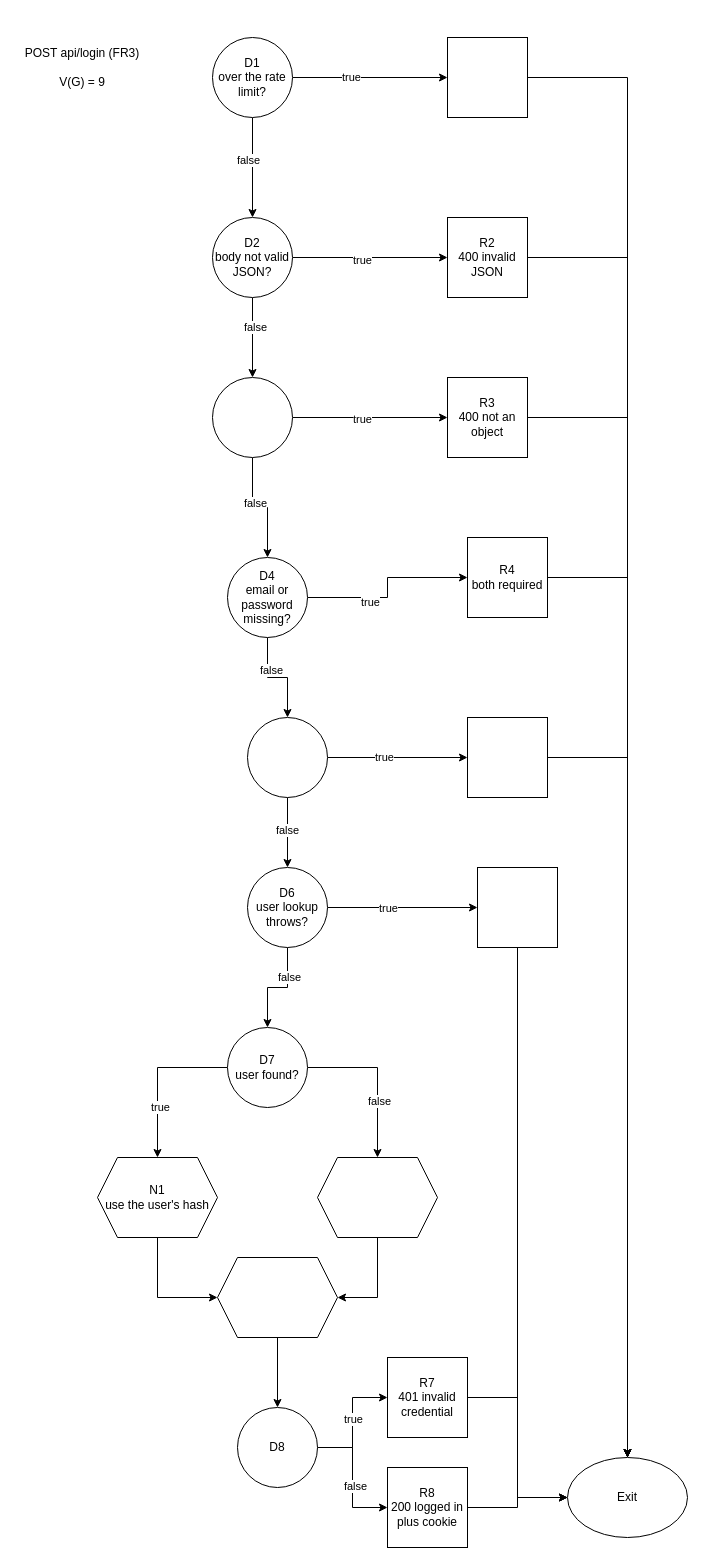
This 705x1565 diagram has some shape labels left out. Here are the shapes that lost their labels. From the top down, the box of each, then its label:
(446, 36, 528, 118): R1 429 too many attempts
(212, 376, 292, 458): D3 body not an object?
(246, 716, 328, 798): D5 password over 72 bytes?
(466, 716, 548, 798): R5 401 invalid credentials
(476, 866, 558, 948): R6 generic error
(316, 1156, 438, 1238): N2 use the dummy's hash
(216, 1256, 338, 1338): N3 bcrypt.compare
